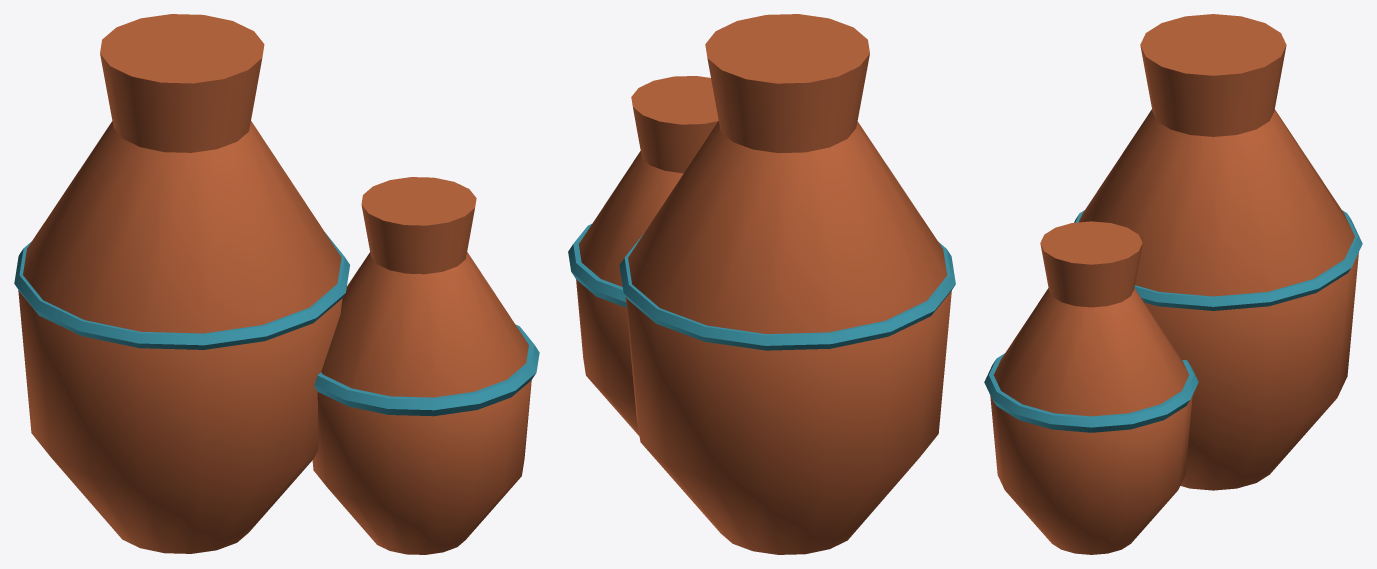
Rendered from MidDesert.fbx.
3 renders of one model, left to right at view 1: azimuth 30°, elevation 25°; view 2: azimuth 150°, elevation 25°; view 3: azimuth 270°, elevation 25°, orthographic. The views are drawn at different scales.
Visible parts, largest first — view 1: MidDesert; view 2: MidDesert; view 3: MidDesert.
Boxes of the visible parts, <box> form: MidDesert: <box>14,14,539,554</box>; MidDesert: <box>568,14,955,554</box>; MidDesert: <box>984,14,1362,554</box>.
Size of the model in its own units: 350 by 380 by 311.
